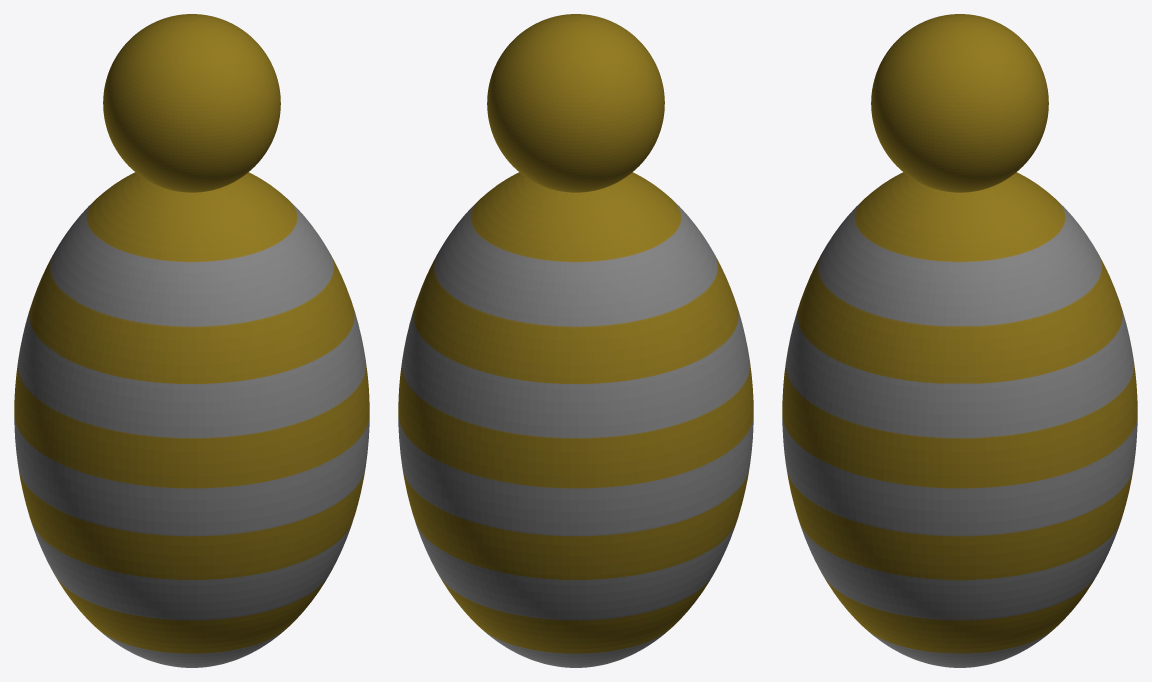
The model's file is BOD2_BMC4_BCC0_BPT2_FRC0_HEA0_HMC4_HCC0_HPT0_ELT0_ERT0_ELL0_ERL0_AP0_AAL0_AAR0_BEK0.fbx.
The picture shows the model from 3 angles, left to right: view 1: azimuth 30°, elevation 25°; view 2: azimuth 150°, elevation 25°; view 3: azimuth 270°, elevation 25°; orthographic projection.
Parts seen in each view (by area): view 1: Body, Head; view 2: Body, Head; view 3: Body, Head.
Boxes of the visible parts, box(x1,y1,x2,y2) form: Body: box(14, 172, 369, 667); Head: box(103, 14, 280, 192); Body: box(398, 172, 753, 667); Head: box(487, 14, 664, 192); Body: box(782, 172, 1137, 667); Head: box(871, 14, 1048, 192).
Bounding box in the file's own units: 98.72 × 195 × 98.72.
Materials: 2 (2 with a texture image).
